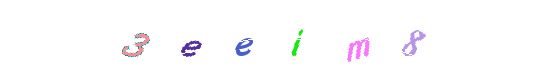3: (97, 0, 177, 80)
8: (318, 0, 398, 80)
E: (163, 0, 243, 80), (240, 0, 320, 80)
I: (256, 0, 336, 80)
M: (292, 0, 372, 80)
